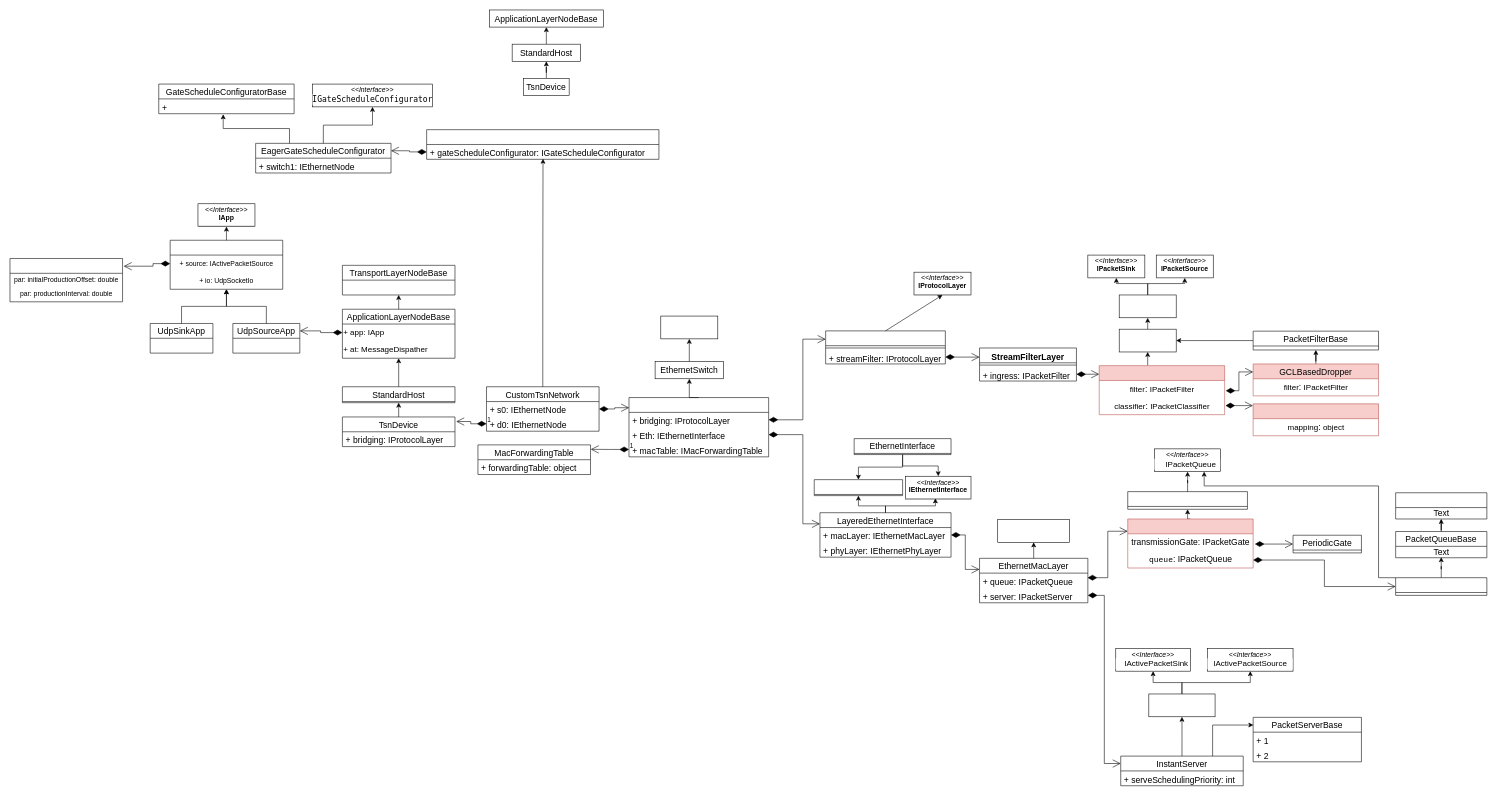
Some shapes in this 1497 by 797 pixel diagram are drawn without their labels. Here are the shapes that lost their labels. From the top down, the box of each, then its label:
(426, 129, 659, 159): TsnNetworkBase
(9, 258, 123, 302): ActivePacketSource
(170, 240, 283, 289): UdpApp
(1119, 294, 1176, 318): <<Interface>> IPacketFlow
(660, 315, 718, 339): <<Interface>> IEthernetNode
(825, 330, 945, 364): BridgingLayer
(1119, 329, 1176, 352): <<Interface>> IPacketFilter
(1099, 365, 1225, 415): SimpleIeee8021qFilter
(628, 397, 769, 457): TsnSwitch
(1253, 403, 1379, 436): StreamClassifier
(814, 479, 903, 496): NetworkInterface
(1127, 491, 1247, 509): CompoundPacketQueueBase
(1395, 492, 1487, 519): PacketProcessorBase
(997, 519, 1070, 542): <<Interface>> IEthernetMacLayer
(1127, 518, 1253, 568): Ieee8021qTimeAwareShaper
(1395, 577, 1487, 595): PacketQueue
(1148, 693, 1215, 717): <<Interface>> IPacketServer
